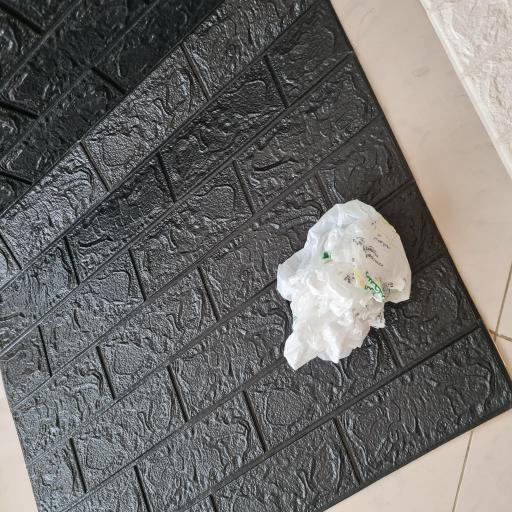plastic bag: (276, 198, 414, 370)
